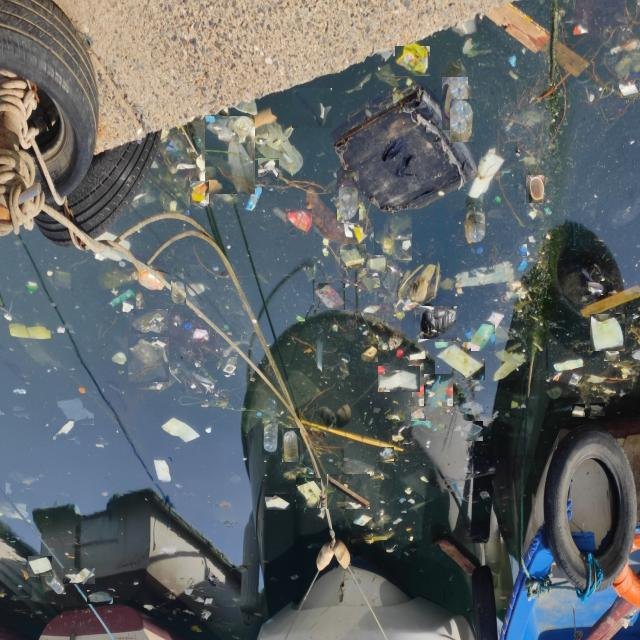Bottle cap: (492, 191, 503, 207), (475, 244, 485, 258), (518, 244, 526, 256), (184, 321, 193, 331), (396, 348, 404, 358), (256, 411, 262, 418)
Plastic: (435, 342, 485, 380), (454, 261, 515, 291), (292, 88, 332, 128), (590, 314, 625, 351), (160, 416, 200, 445), (492, 349, 526, 383), (378, 366, 420, 392), (296, 478, 321, 508), (462, 36, 493, 59), (340, 244, 366, 268), (153, 457, 172, 484), (63, 568, 95, 584), (28, 556, 52, 576), (53, 419, 75, 440), (264, 494, 290, 510), (258, 158, 279, 177), (618, 80, 638, 98), (367, 255, 387, 273), (408, 349, 426, 363), (568, 371, 582, 389), (411, 406, 426, 421), (379, 447, 394, 461), (590, 403, 605, 416), (572, 404, 585, 417), (508, 52, 517, 69), (122, 302, 134, 314), (200, 609, 212, 621), (183, 587, 195, 598), (478, 490, 491, 500), (204, 596, 214, 606)
Plastic bag: (205, 116, 255, 194), (243, 120, 304, 179), (128, 337, 169, 382), (374, 212, 412, 260), (420, 306, 457, 339), (424, 374, 453, 415), (56, 397, 94, 425), (131, 309, 168, 334), (471, 321, 495, 351), (0, 501, 31, 524), (87, 590, 113, 604), (439, 277, 457, 293)
Plastic bottle: (442, 77, 468, 130), (337, 170, 359, 223), (450, 99, 474, 142), (465, 202, 488, 246), (43, 571, 67, 597), (282, 428, 300, 462), (262, 419, 278, 455), (171, 279, 186, 305)
Plastic cup: (526, 175, 545, 203), (461, 421, 483, 441), (185, 281, 205, 298), (361, 344, 378, 362), (222, 357, 237, 375), (604, 345, 620, 361), (111, 351, 127, 366), (508, 279, 522, 293), (418, 394, 431, 408)
Plastic packaging: (395, 46, 430, 76), (314, 283, 345, 310), (286, 209, 312, 235), (108, 288, 136, 308), (245, 185, 262, 213), (553, 358, 585, 372), (190, 181, 209, 203), (486, 311, 506, 331), (412, 381, 433, 397), (353, 513, 373, 528), (353, 225, 368, 244), (411, 418, 433, 430), (192, 327, 209, 342), (572, 23, 590, 37), (586, 281, 604, 295)
Undefined trash: (327, 82, 479, 217)
Wood: (485, 7, 591, 80), (300, 414, 404, 454), (580, 284, 639, 320), (327, 474, 370, 509)
